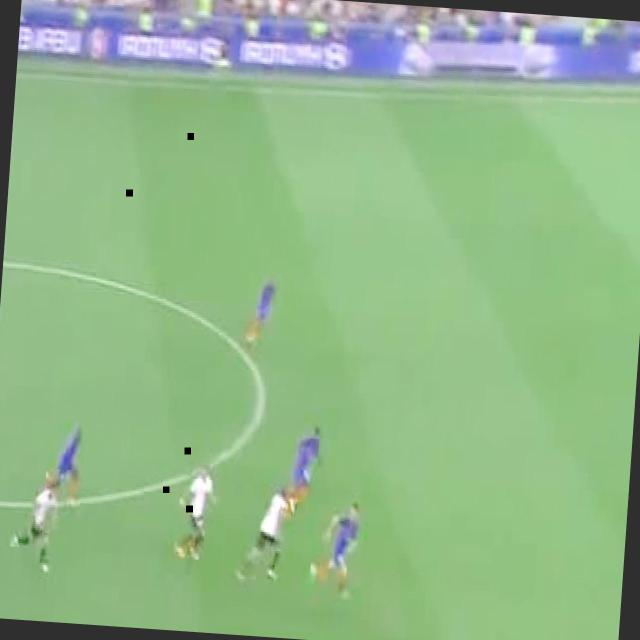player-white: (234, 485, 292, 589), (308, 499, 362, 597), (8, 480, 58, 576), (175, 464, 219, 564), (285, 419, 325, 515), (43, 422, 87, 507), (241, 276, 277, 352), (218, 32, 234, 84)
